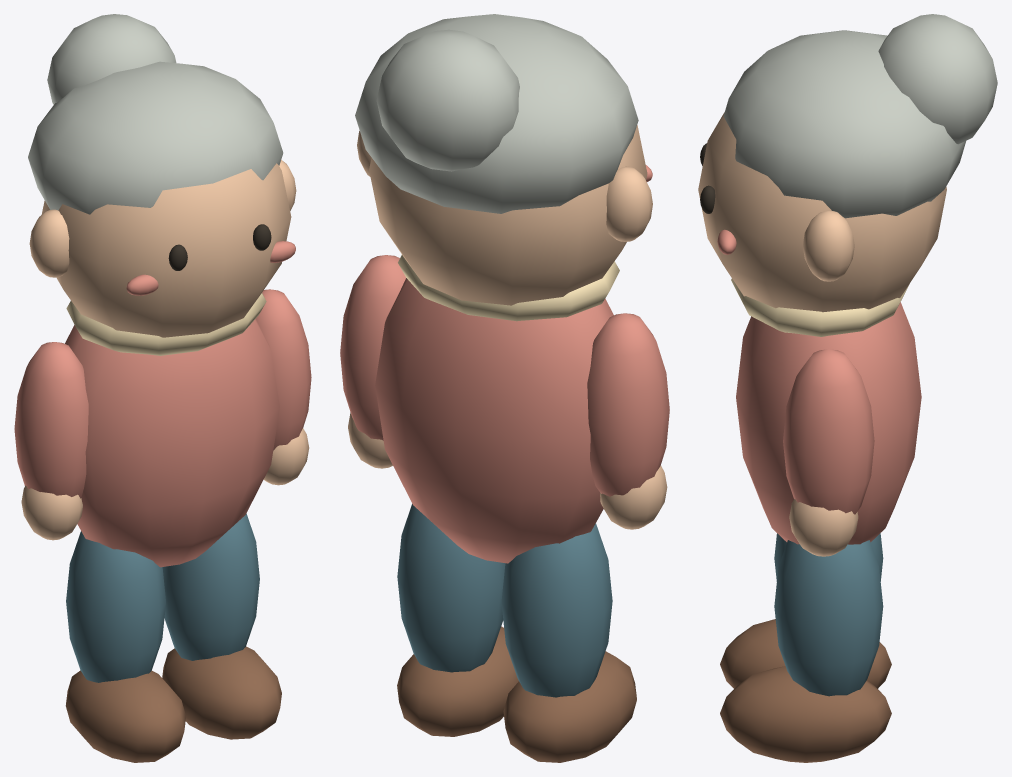
The model's file is walker-neighbor.glb.
3 renders of one model, left to right at view 1: azimuth 30°, elevation 25°; view 2: azimuth 150°, elevation 25°; view 3: azimuth 270°, elevation 25°, orthographic. The views are drawn at different scales.
Visible parts, largest first — view 1: scarf; view 2: scarf; view 3: scarf.
Part boxes in pixels (left/top/right/bottom): scarf: left=14, top=14, right=311, bottom=762; scarf: left=340, top=14, right=669, bottom=762; scarf: left=698, top=14, right=997, bottom=762.
Size of the model in its own units: 0.558 by 1.27 by 0.484.
